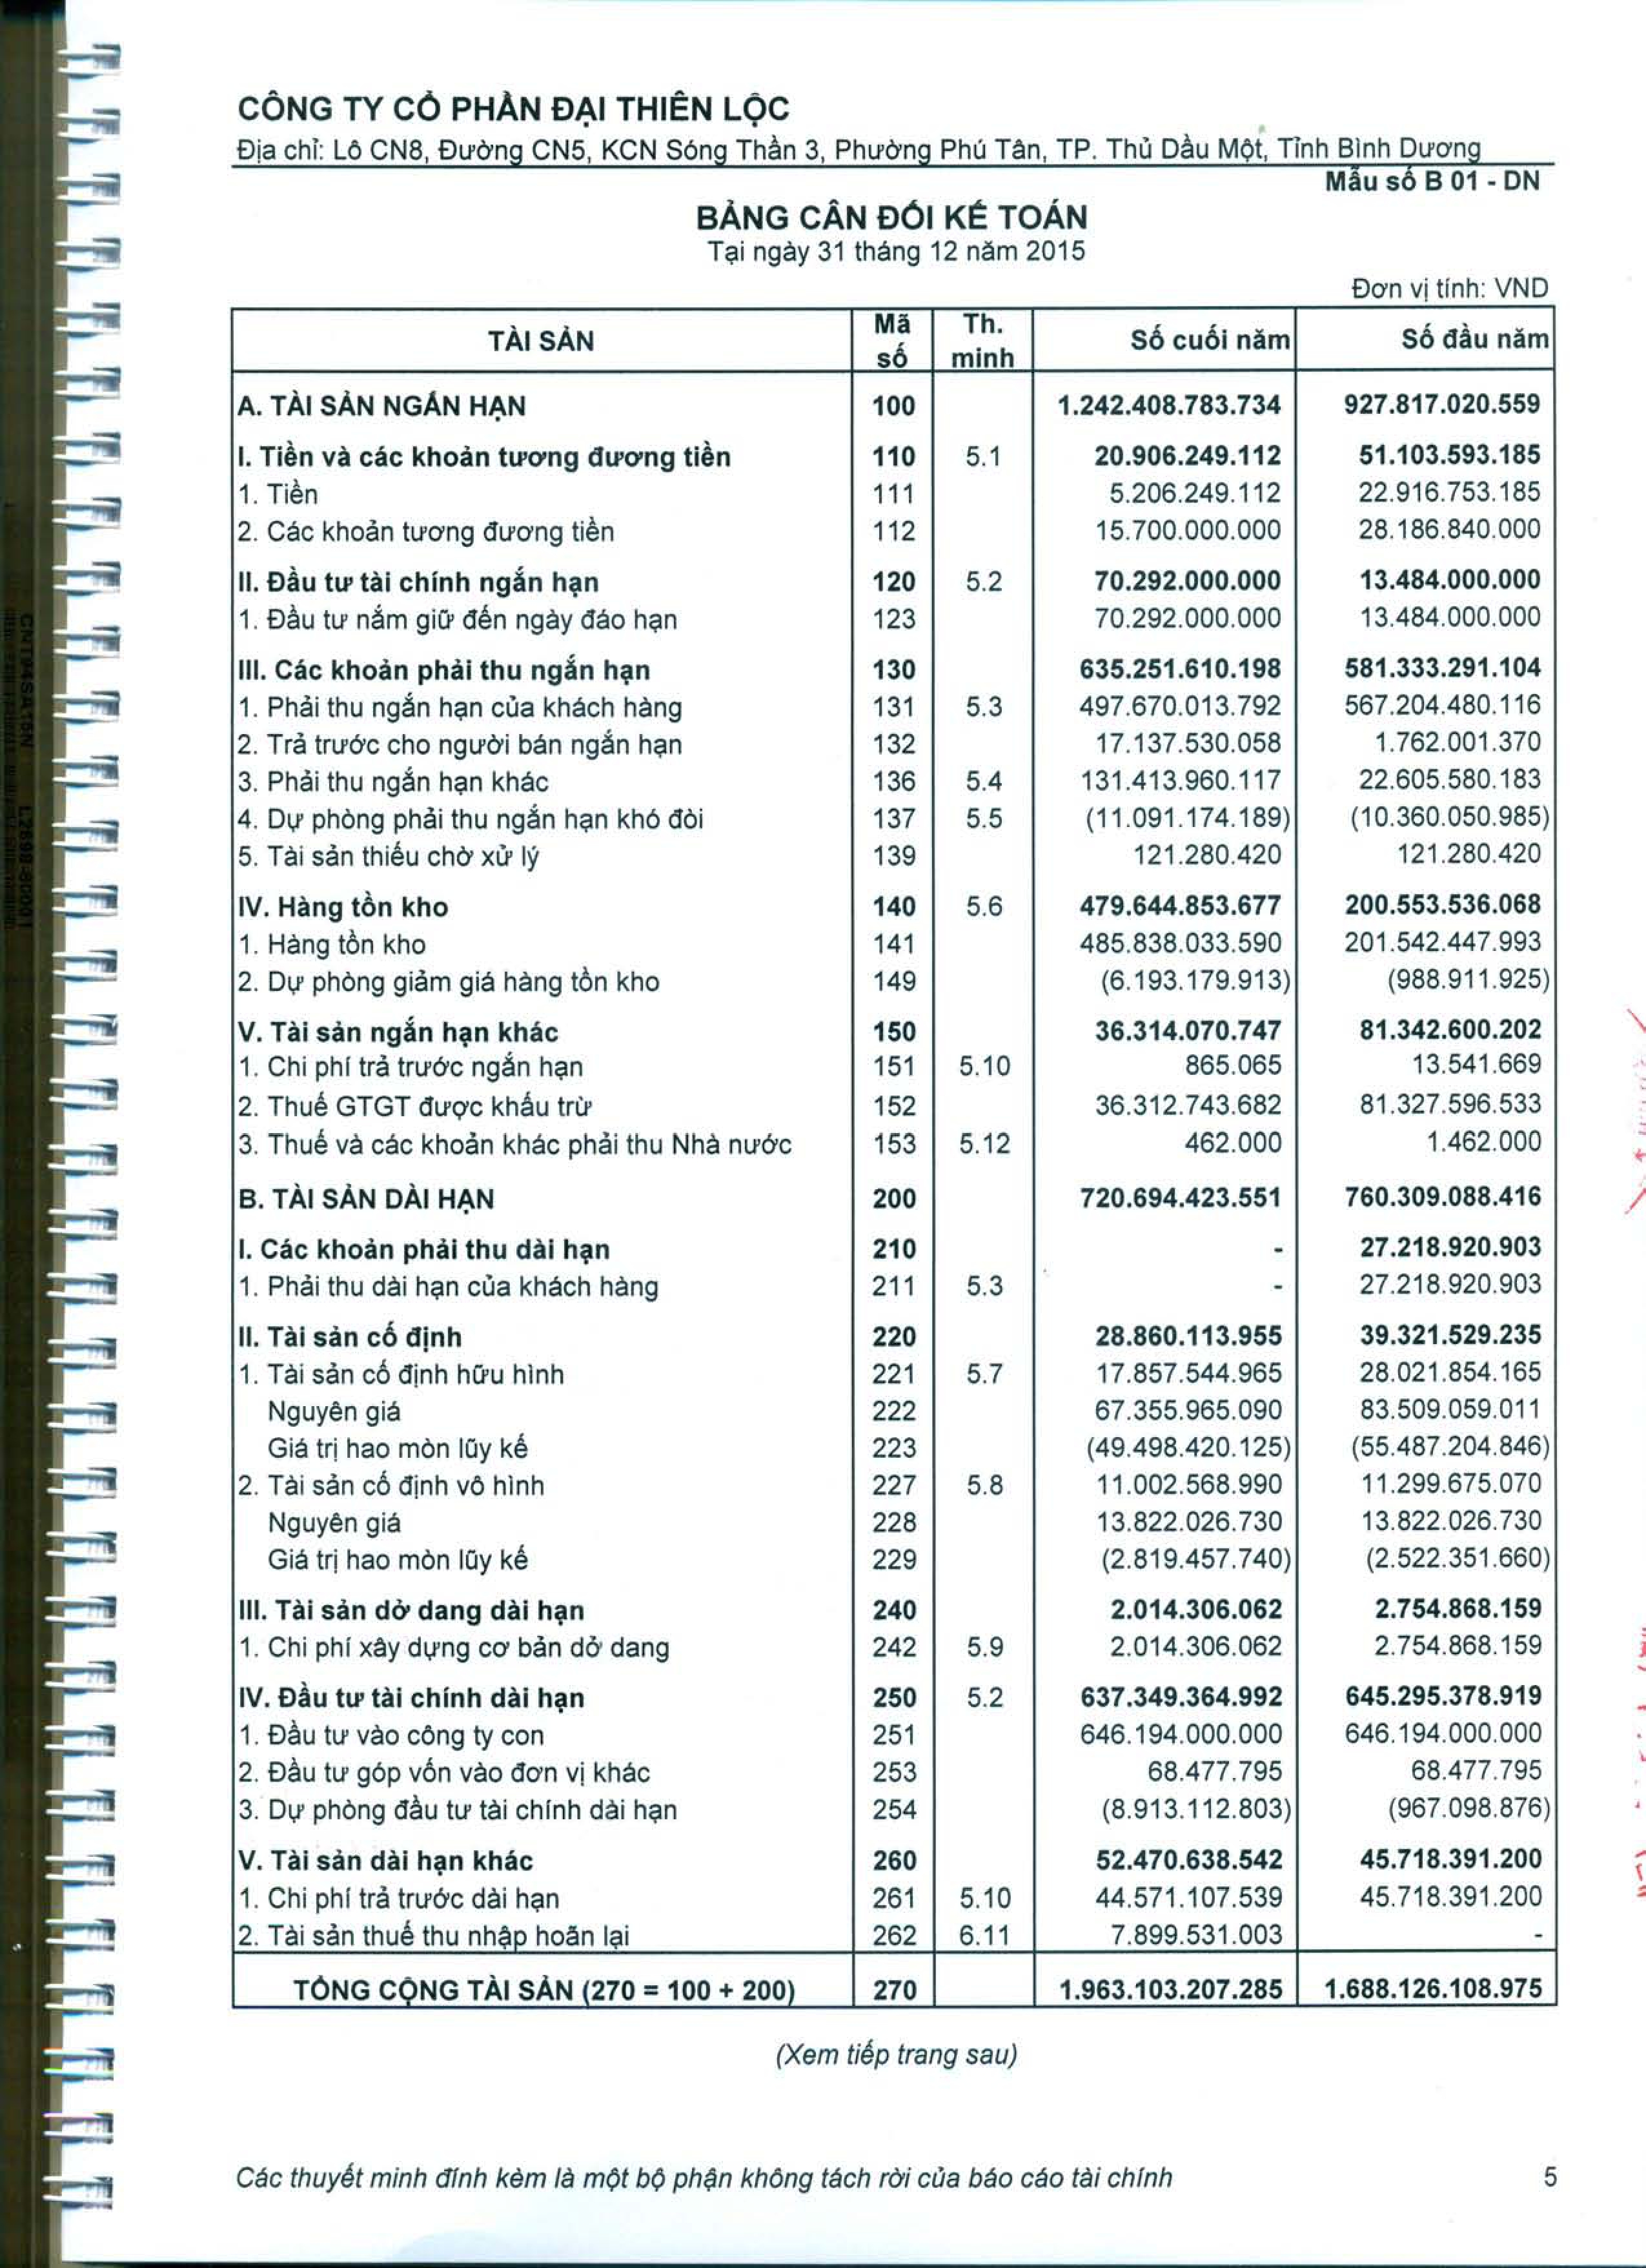table: (213, 303, 1572, 2020)
table column: (231, 303, 826, 2020), (1033, 303, 1296, 2020), (1306, 303, 1553, 2020), (859, 303, 931, 2020), (947, 303, 1014, 2020)
table column header: (213, 301, 1572, 380)
table row: (213, 312, 1572, 375), (213, 384, 1572, 431), (213, 438, 1572, 475), (213, 1134, 1572, 1171), (213, 1962, 1572, 1999), (213, 680, 1572, 715), (213, 1085, 1572, 1120), (213, 1271, 1572, 1307), (213, 1576, 1572, 1611), (213, 1708, 1572, 1743), (213, 1867, 1572, 1902), (213, 475, 1572, 509), (213, 511, 1572, 544), (213, 562, 1572, 595), (213, 595, 1572, 629), (213, 646, 1572, 680), (213, 748, 1572, 782), (213, 896, 1572, 930), (213, 931, 1572, 965), (213, 984, 1572, 1018), (213, 1745, 1572, 1778), (213, 715, 1572, 747), (213, 782, 1572, 814), (213, 814, 1572, 845), (213, 863, 1572, 895), (213, 1020, 1572, 1051), (213, 1053, 1572, 1085), (213, 1189, 1572, 1220), (213, 1222, 1572, 1254), (213, 1307, 1572, 1338), (213, 1340, 1572, 1372), (213, 1372, 1572, 1403), (213, 1405, 1572, 1437), (213, 1440, 1572, 1472), (213, 1474, 1572, 1506), (213, 1506, 1572, 1537), (213, 1544, 1572, 1576), (213, 1629, 1572, 1661), (213, 1661, 1572, 1692), (213, 1800, 1572, 1831), (213, 1833, 1572, 1865)
